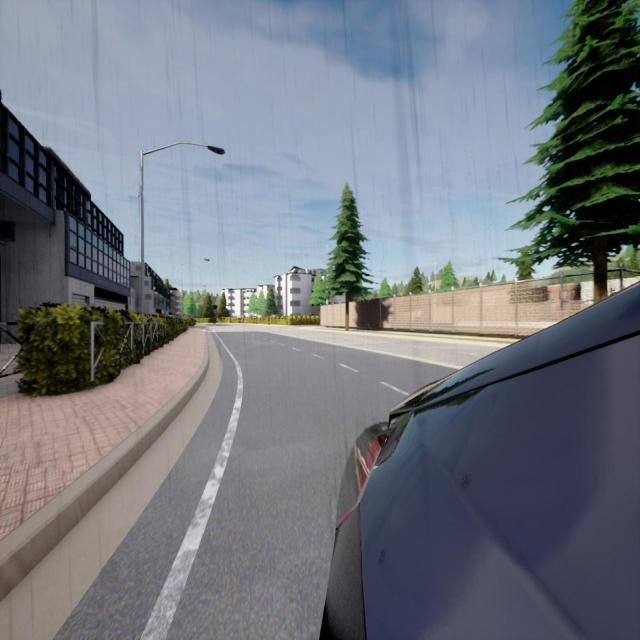Vehicle: (322, 283, 640, 638)
